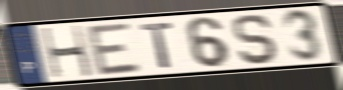3: (282, 7, 324, 66)
6: (184, 15, 232, 70)
E: (85, 21, 145, 78)
H: (38, 24, 95, 80)
S: (231, 13, 282, 66)
T: (139, 20, 177, 70)
